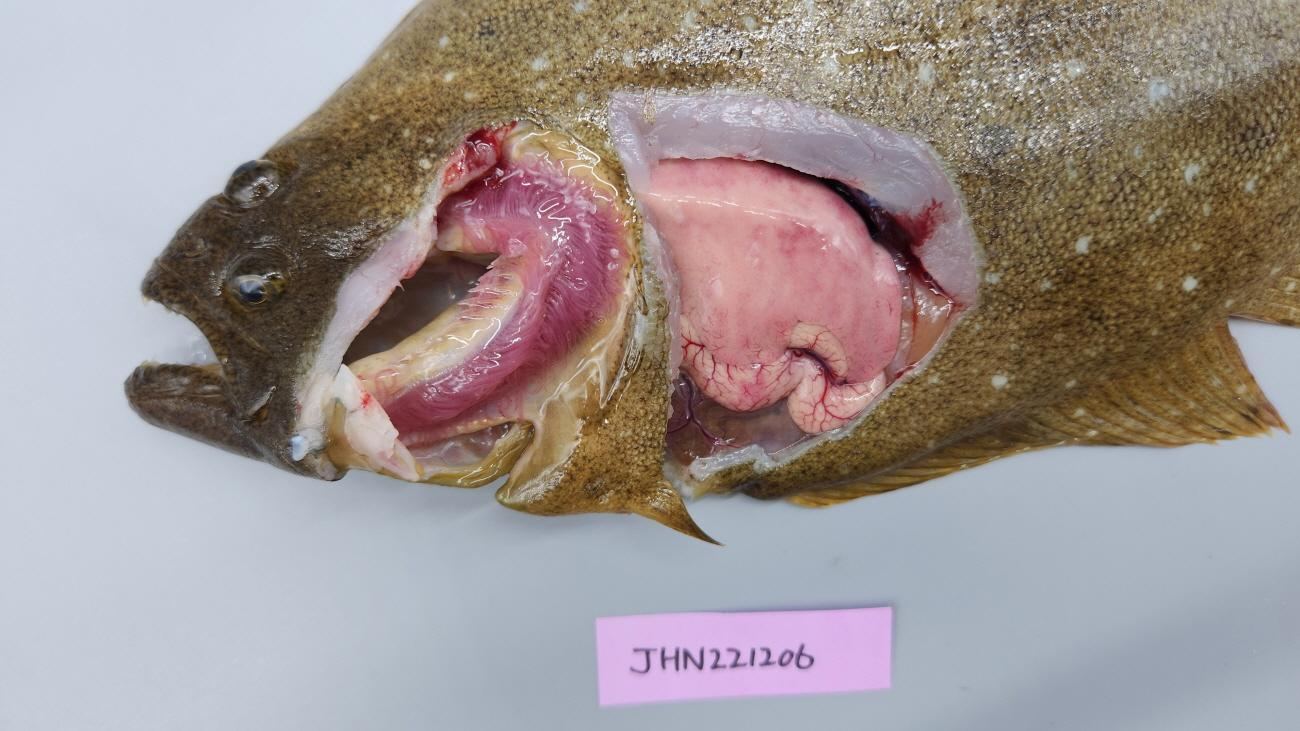POGIN: (383, 165, 623, 440)
